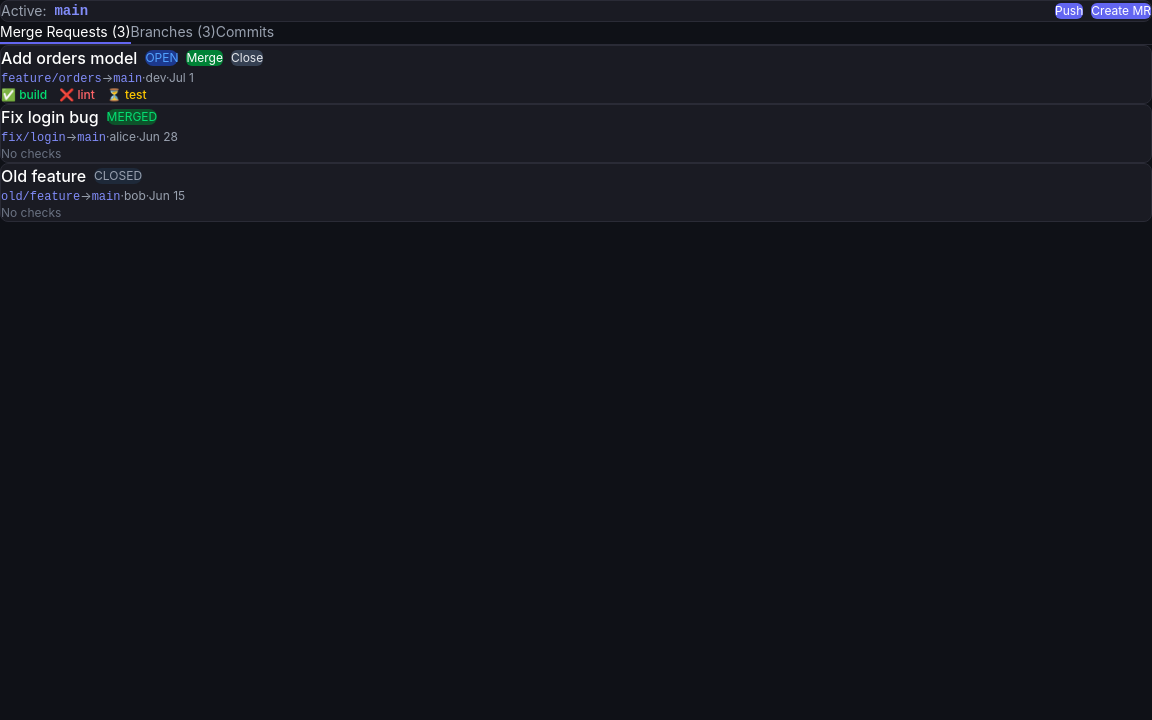
Test: GitPage › opens Create MR modal with form fields
Step 1. Click the button "Create MR" → (1121, 11), box [1091,3,1151,19]
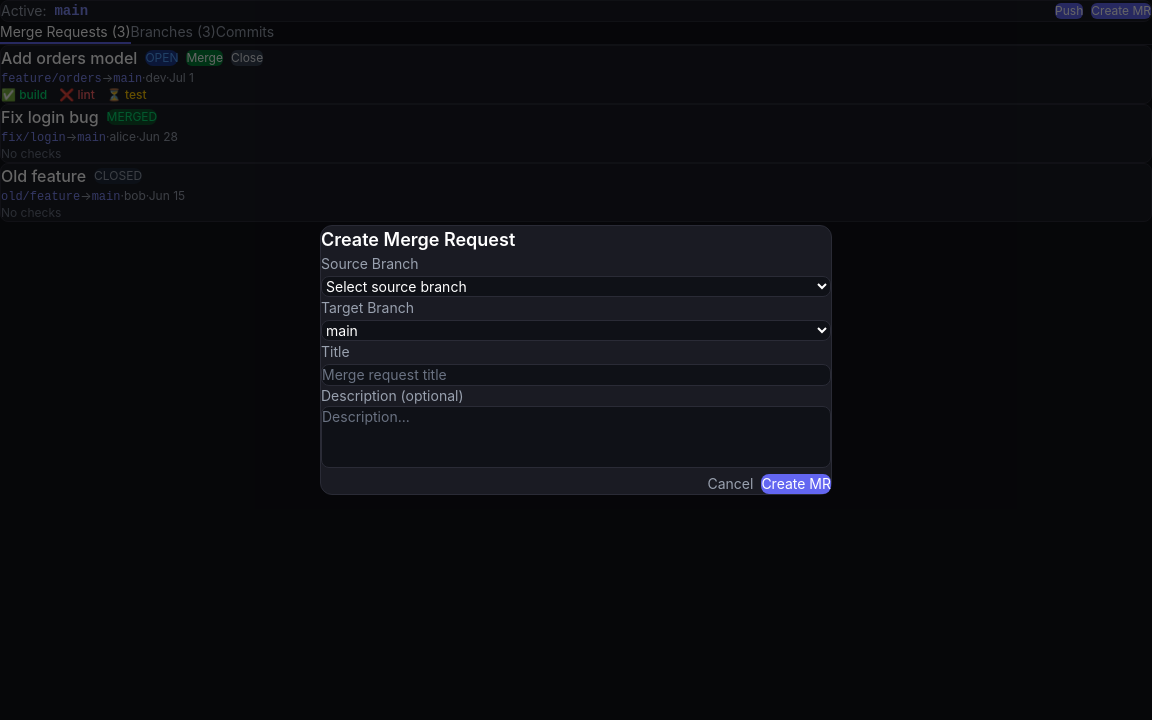
Check: the heading "Create Merge Request" is shown, box [321,229,515,250]
Check: the text "Source Branch" is shown, box [321,255,419,272]
Check: the text "Target Branch" is shown, box [321,299,414,316]
